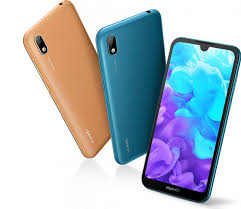huawei: (131, 37, 241, 200)
